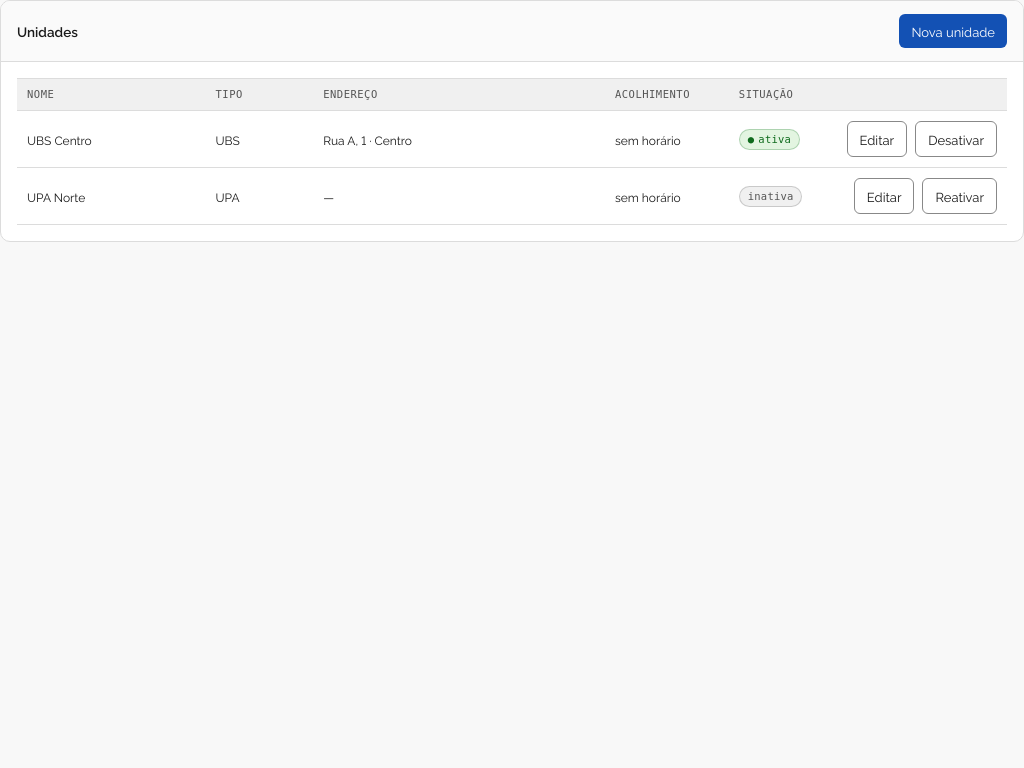
Test case: Units › recusa invalid_screening_scope é traduzida
Click the button "Editar" in the row of "UBS Centro" at (877, 139), box [846,121,907,157]
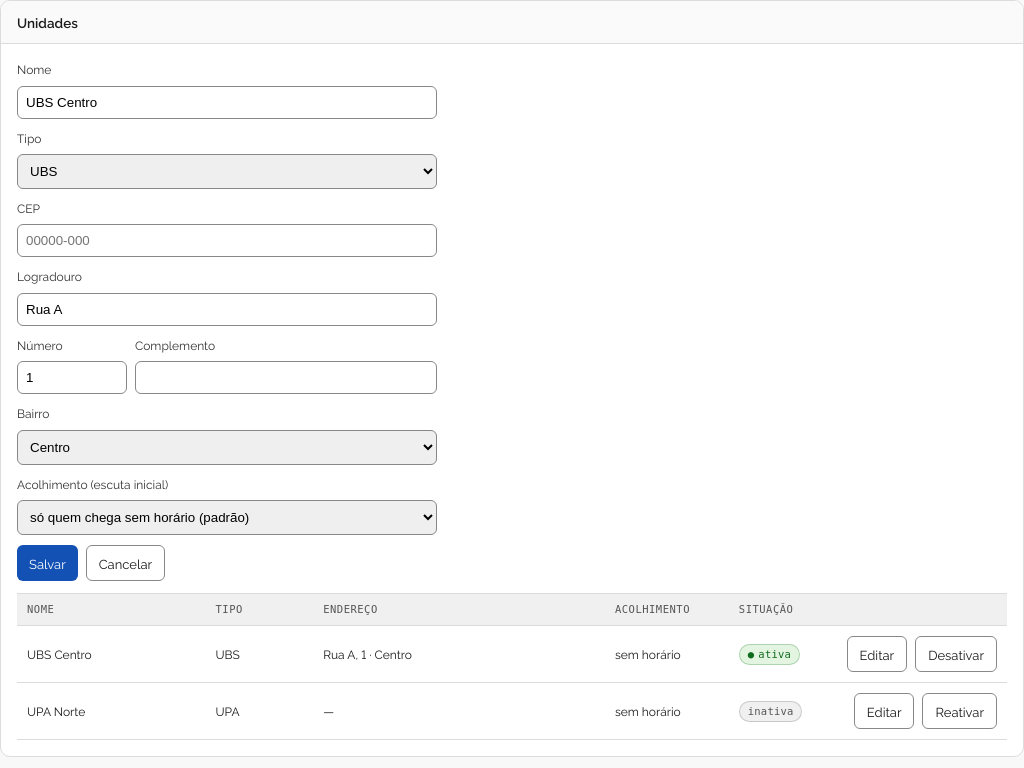
Click the button "Salvar" at (47, 563), box [17,545,78,581]
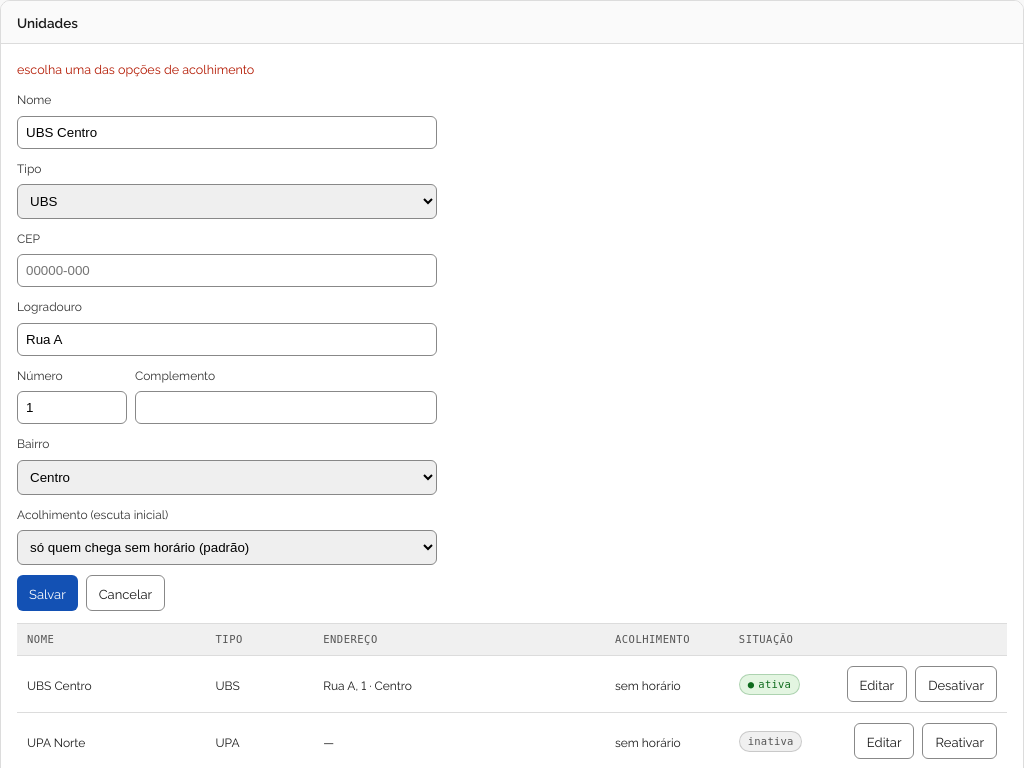
Expected: the message reads "escolha uma das opções de acolhimento", [17,60,254,77]
